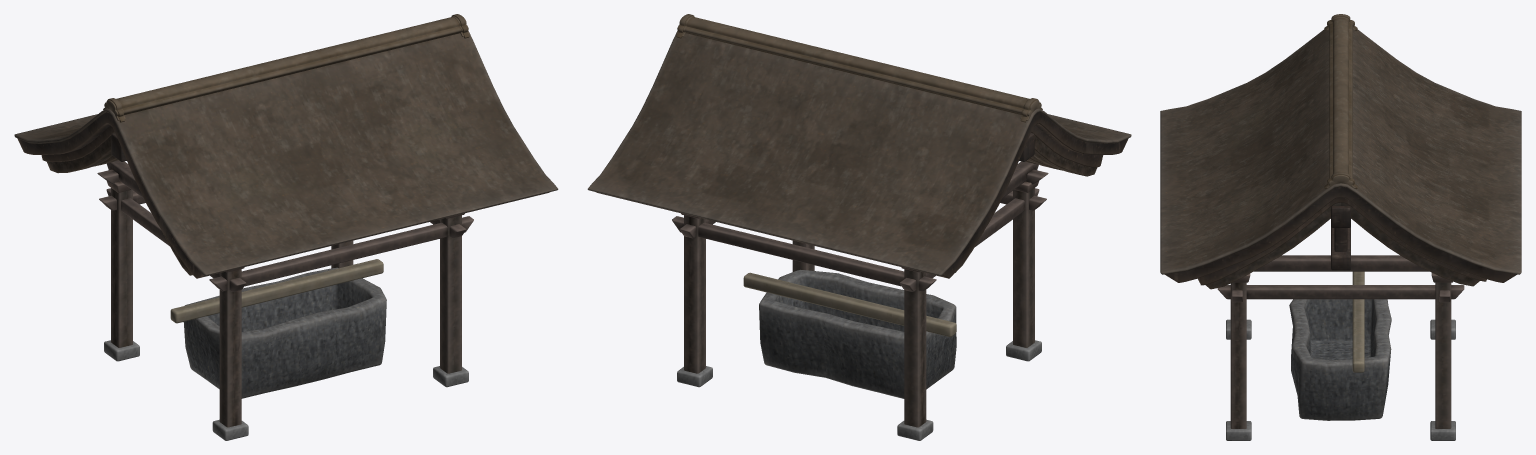
Rendered from Temizusya.fbx.
3 renders of one model, left to right at view 1: azimuth 30°, elevation 25°; view 2: azimuth 150°, elevation 25°; view 3: azimuth 270°, elevation 25°, orthographic. The views are drawn at different scales.
Parts seen in each view (by area): view 1: Temizusya; view 2: Temizusya; view 3: Temizusya.
Part boxes in pixels (box(x1,y1,x2,y2)): Temizusya: box(14, 14, 558, 440); Temizusya: box(587, 14, 1131, 440); Temizusya: box(1160, 14, 1521, 440).
Size of the model in its own units: 4.23 by 3.53 by 3.96.
